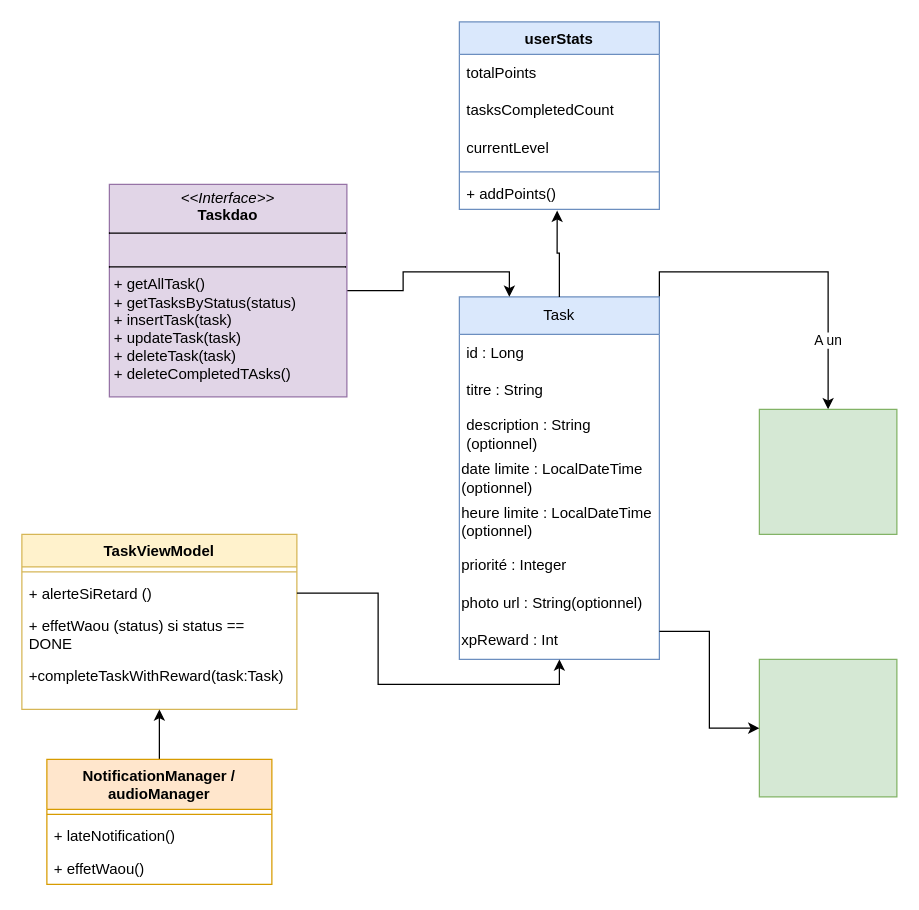
This 919x910 diagram has some shape labels left out. Each missing label, with the centre of its shape:
"<<enumération>> PeriodicityType NONE DAILY WEEKLY MONTHLY" goes at point 827,727.
"<<enumération>> taskstatus TODO OVERDUE DONE" goes at point 827,471.
